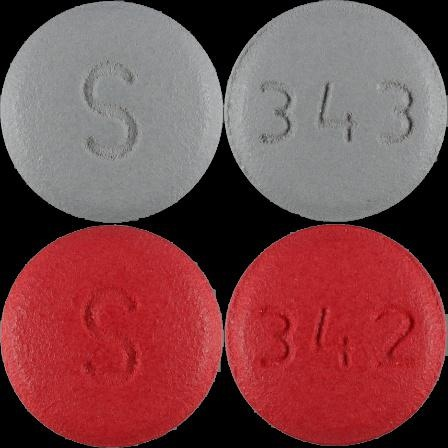43063-677: (0, 0, 224, 224)
